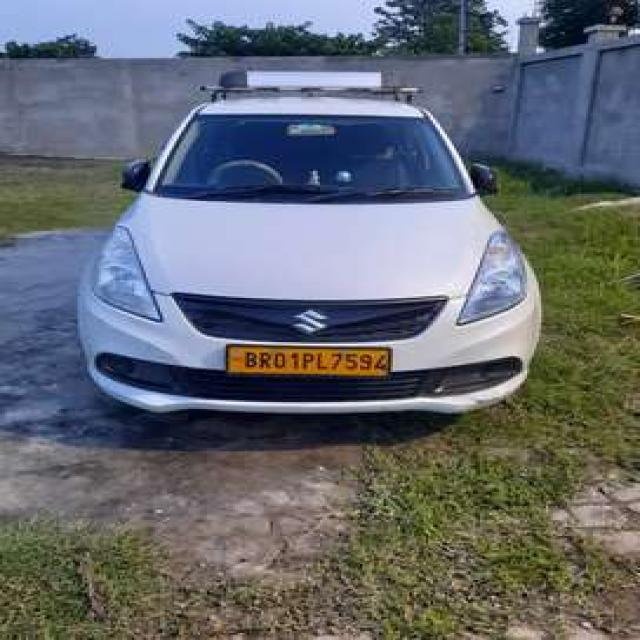Plate: (227, 345, 389, 375)
